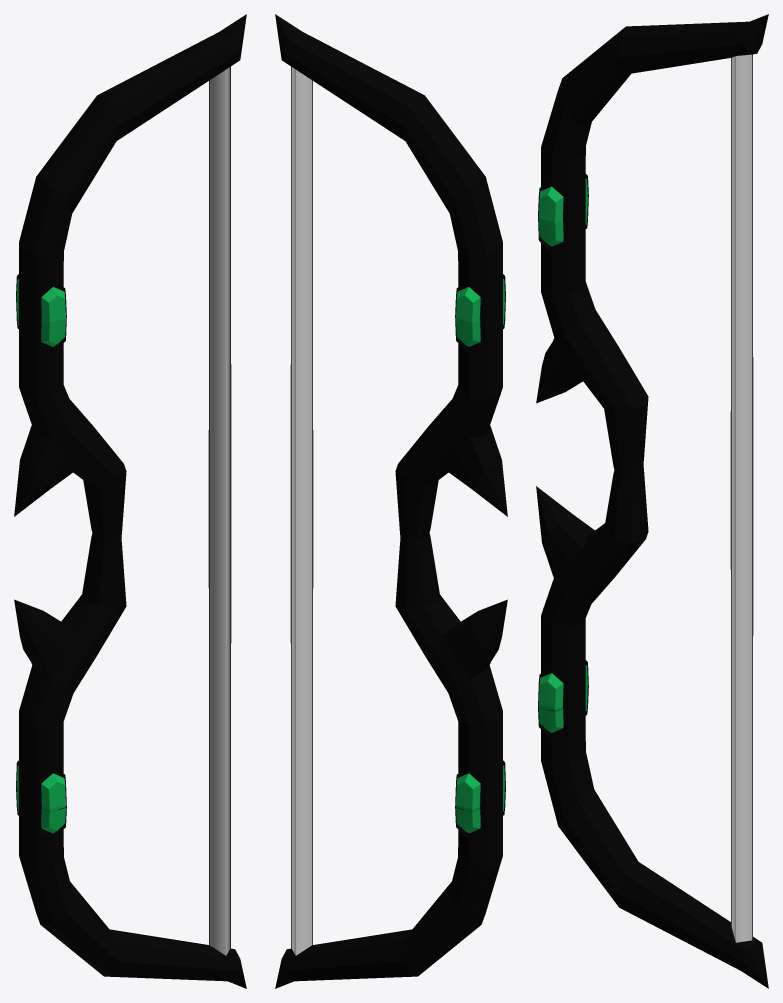
File: Bow_8.fbx
3 renders of one model, left to right at view 1: azimuth 30°, elevation 25°; view 2: azimuth 150°, elevation 25°; view 3: azimuth 330°, elevation 25°, orthographic.
Visible parts, largest first — view 1: Bow_8_outliner, Bow_8; view 2: Bow_8_outliner, Bow_8; view 3: Bow_8_outliner, Bow_8.
Boxes of the visible parts, x1=… form: Bow_8_outliner: x1=14, y1=14, x2=246, y2=988; Bow_8: x1=16, y1=67, x2=230, y2=955; Bow_8_outliner: x1=275, y1=14, x2=507, y2=988; Bow_8: x1=291, y1=67, x2=505, y2=955; Bow_8_outliner: x1=536, y1=14, x2=768, y2=988; Bow_8: x1=538, y1=54, x2=752, y2=942.
Bounding box in the file's own units: 569 × 2277 × 144.
